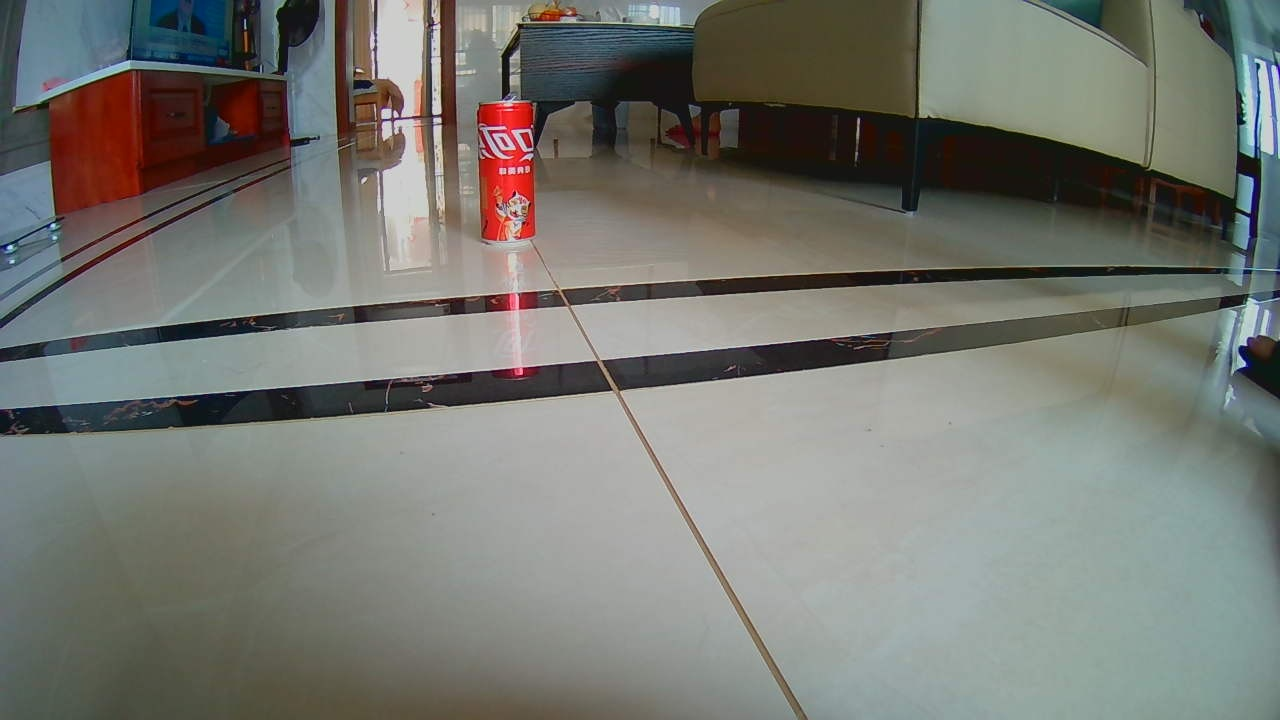cola: (473, 96, 542, 243)
